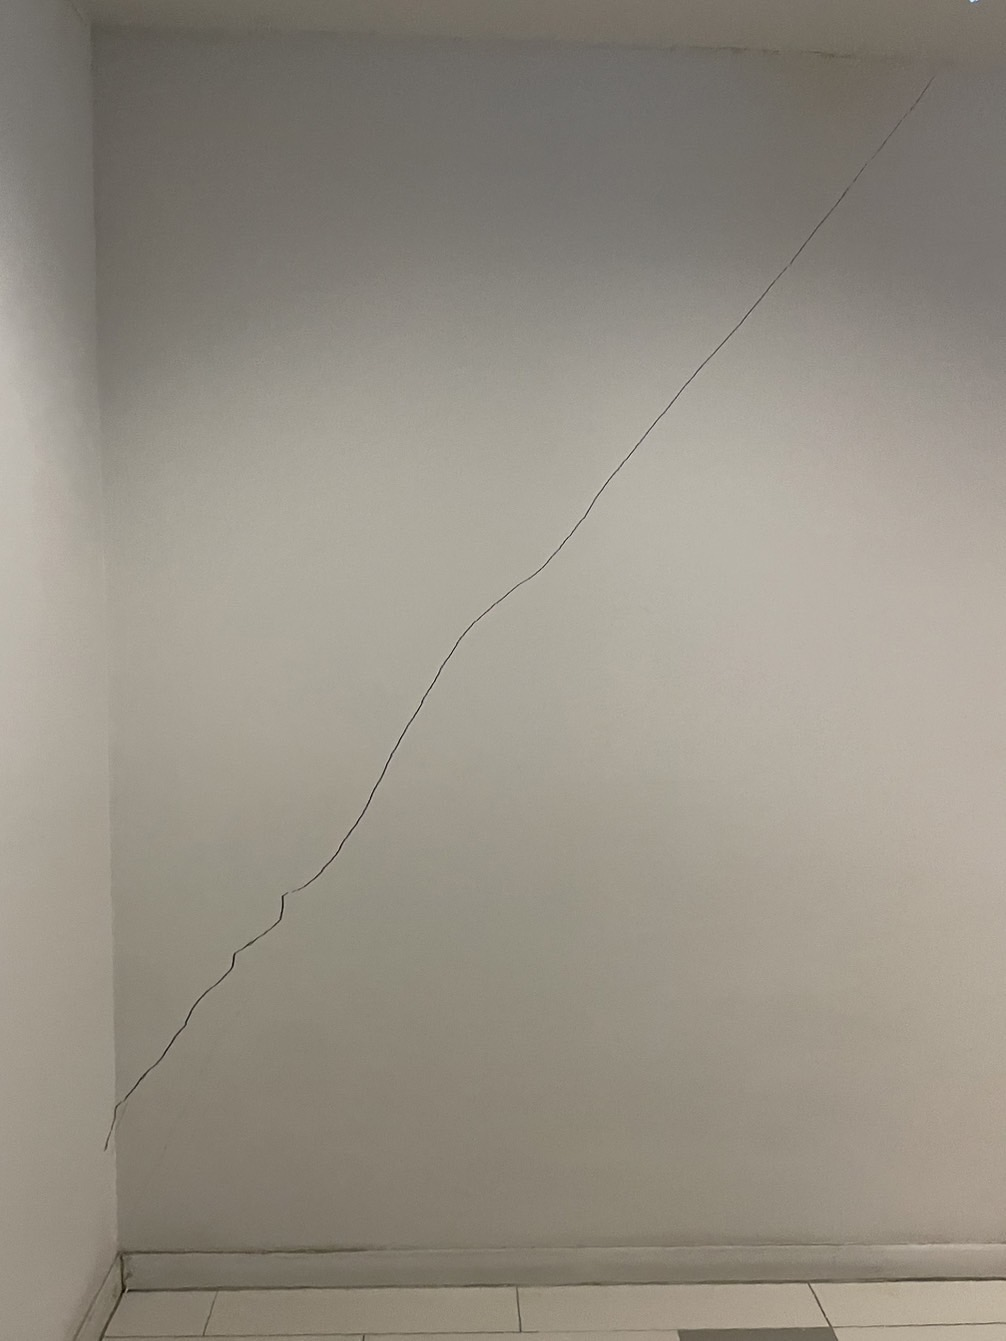Low: (83, 56, 973, 1146)
